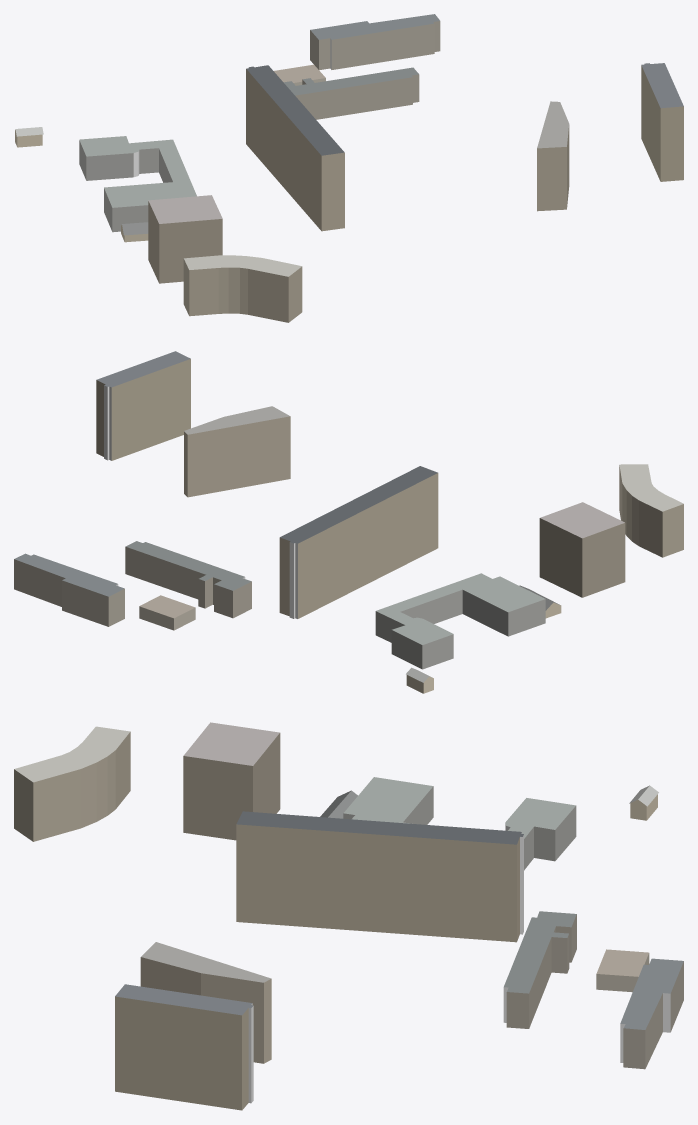
3 renders of one model, top to bottom at view 1: azimuth 30°, elevation 25°; view 2: azimuth 150°, elevation 25°; view 3: azimuth 270°, elevation 25°, orthographic. The views are drawn at different scales.
Parts seen in each view (by area): view 1: tuile; view 2: tuile; view 3: tuile.
Boxes of the visible parts, <box> form: tuile: <box>15,14,683,322</box>; tuile: <box>14,351,683,693</box>; tuile: <box>14,722,683,1110</box>.
Bounding box in the file's own units: 267 × 40.97 × 226.
